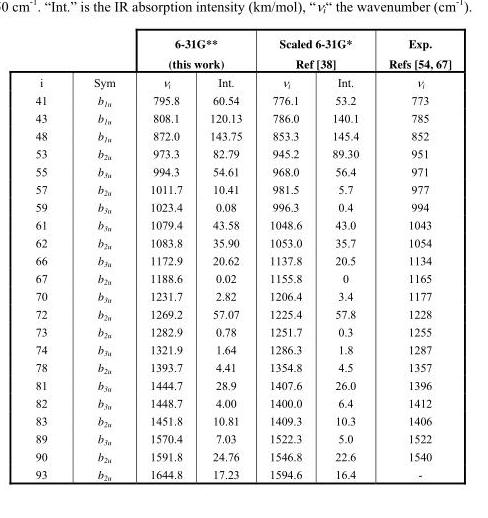table: (34, 34, 450, 481)
table column: (373, 34, 450, 481), (131, 34, 195, 481), (69, 34, 131, 481), (255, 34, 316, 481), (195, 34, 255, 481), (316, 34, 373, 481), (34, 34, 69, 481)
table column header: (34, 34, 450, 91)
table row: (34, 34, 450, 72), (34, 72, 450, 91), (34, 91, 450, 109), (34, 126, 450, 144), (34, 144, 450, 162), (34, 162, 450, 180), (34, 180, 450, 198), (34, 215, 450, 233), (34, 233, 450, 251), (34, 251, 450, 269), (34, 269, 450, 287), (34, 287, 450, 305), (34, 322, 450, 340), (34, 340, 450, 358), (34, 358, 450, 376), (34, 376, 450, 394), (34, 411, 450, 429), (34, 429, 450, 447), (34, 447, 450, 465), (34, 109, 450, 126), (34, 198, 450, 215), (34, 305, 450, 322), (34, 394, 450, 411), (34, 465, 450, 481)
table spanning cell: (131, 34, 255, 72), (255, 34, 373, 72), (373, 34, 450, 91), (69, 34, 131, 91), (34, 34, 69, 91)
